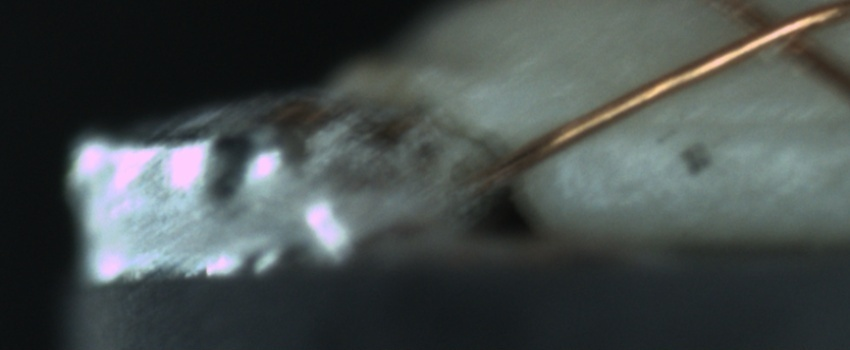CL: (710, 2, 842, 67)
DL: (620, 90, 845, 160)
